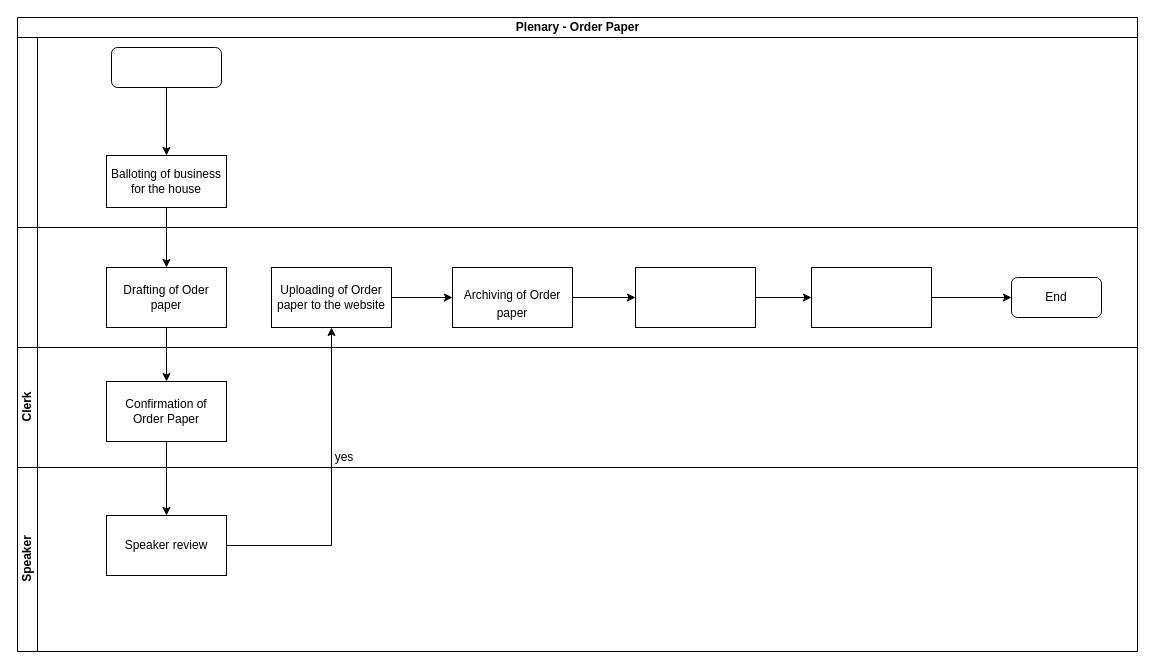
The diagram is 1155 pixels wide and 669 high, and some of its shapes have lost their labels. The shapes that lost their labels are listed below. From the top down, each one's box as (x1, y1, x2, y2) in pixels, then its label:
(110, 46, 222, 88): Start
(16, 36, 1138, 228): Clerk Assistant
(16, 226, 1138, 348): Table Office
(634, 266, 756, 328): Preparation of Votes and Proceedings
(810, 266, 932, 328): Archiving of Votes and Proceedings
